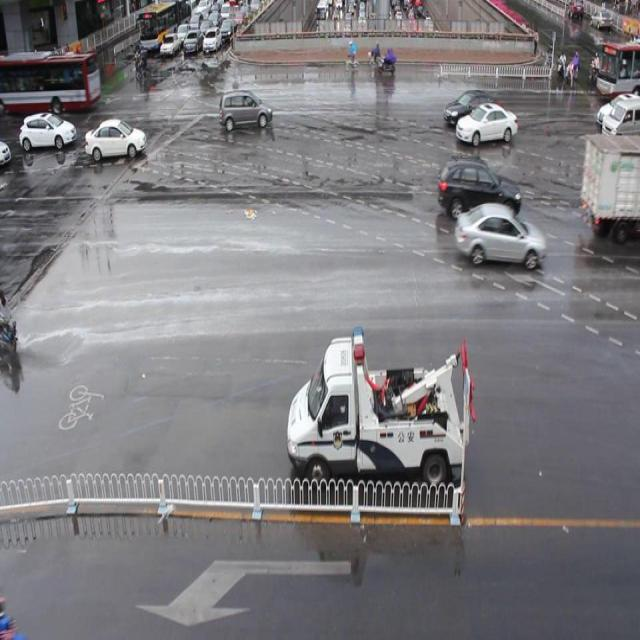bus: (286, 320, 475, 486), (583, 130, 640, 233)
car: (456, 202, 546, 266), (437, 154, 520, 213), (455, 101, 517, 143), (86, 116, 146, 158), (218, 88, 272, 127), (20, 111, 76, 147), (444, 88, 498, 122)
truck: (600, 90, 640, 140)
